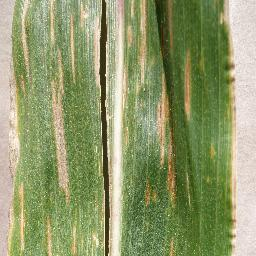Gray_Leaf_Spot: (0, 3, 36, 255), (93, 0, 126, 256), (220, 0, 253, 242), (48, 0, 78, 206), (116, 0, 156, 81), (160, 81, 181, 205), (74, 0, 103, 46), (181, 46, 196, 117), (121, 80, 137, 146), (163, 0, 179, 48), (43, 213, 60, 256), (68, 218, 83, 256), (140, 177, 158, 206), (165, 236, 187, 256), (205, 140, 222, 162), (204, 175, 215, 185)
